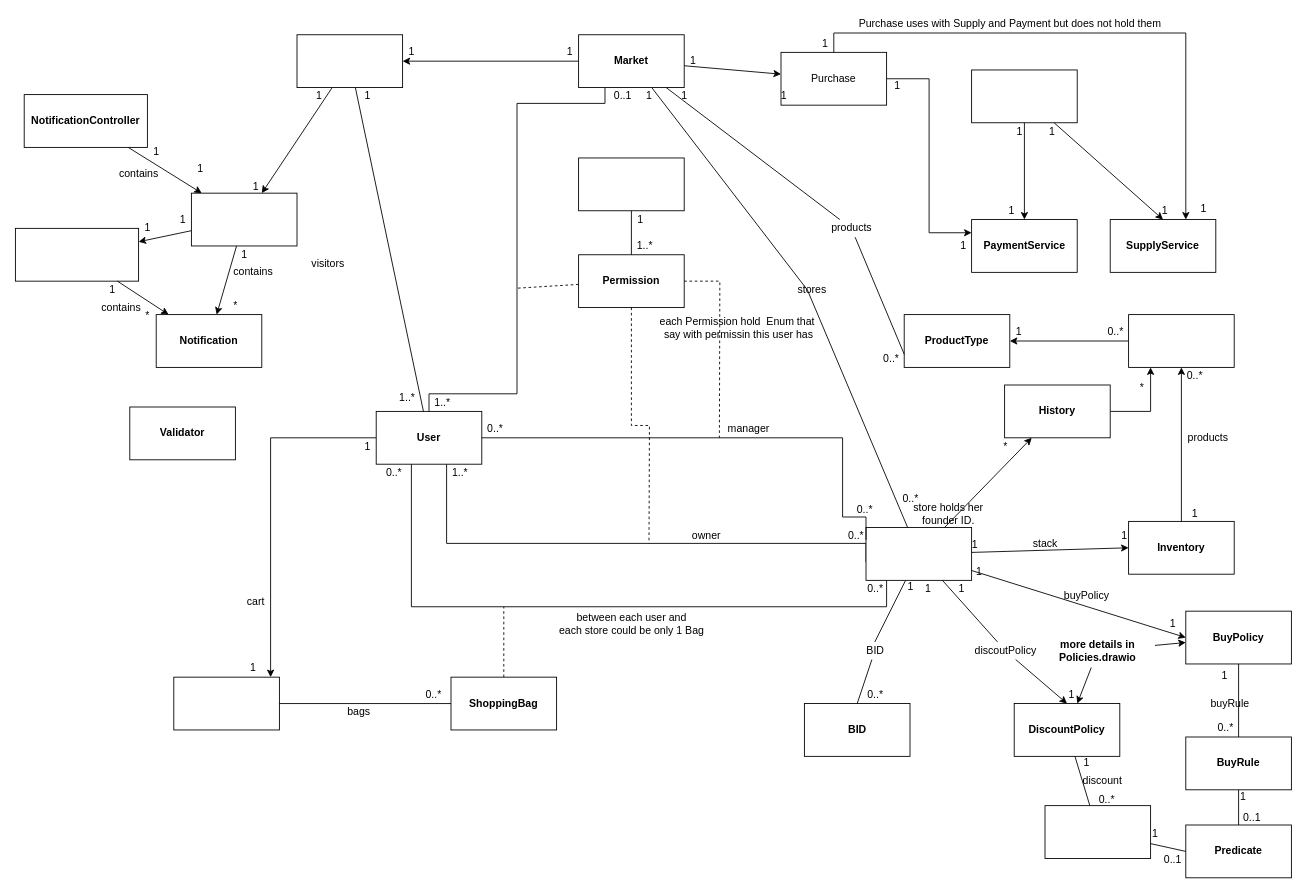
The diagram is 1307 pixels wide and 893 high, and some of its shapes have lost their labels. The shapes that lost their labels are listed below. From the top down, each one's centre as x and y in pixels, then its label:
point 349,61: UserManager
point 1024,96: ExternalServices
point 631,184: PermissionManager
point 244,219: AlertService
point 77,254: NotificationDispatcher
point 1181,340: ProductStore
point 918,553: Store
point 226,703: ShoppingCart
point 1097,831: DiscountRule
